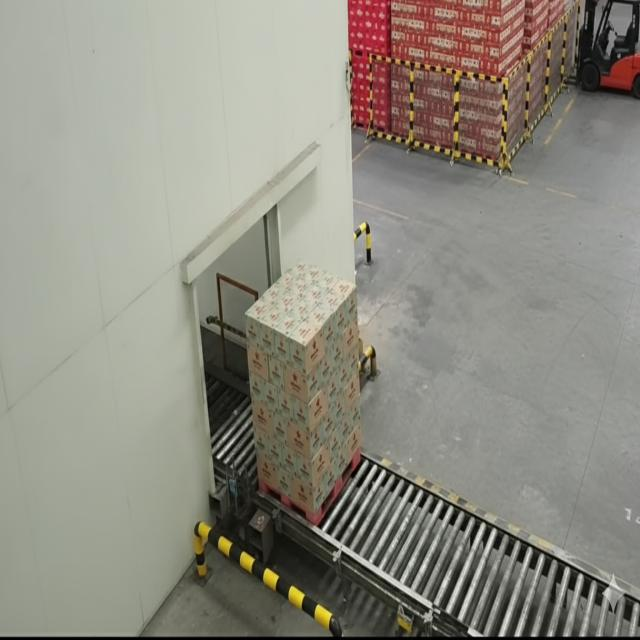pallet: (250, 255, 368, 537)
